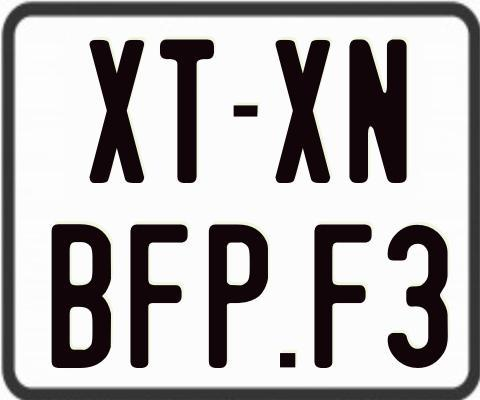3: (385, 223, 448, 370)
B: (50, 221, 112, 370)
F: (128, 221, 191, 371), (313, 221, 375, 367)
N: (346, 39, 409, 188)
P: (209, 222, 274, 369)
T: (160, 37, 217, 181)
X: (276, 39, 335, 185), (89, 38, 145, 185)
